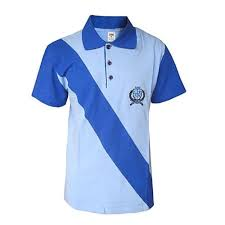S_polo shirt: (30, 19, 189, 215)
